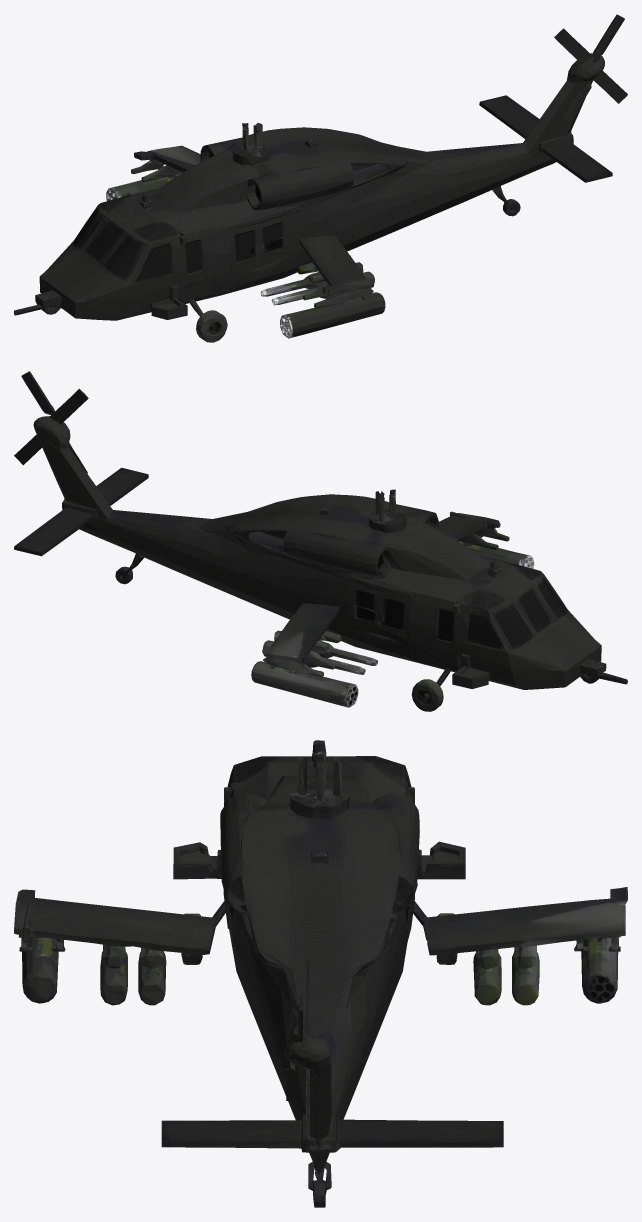
The model's file is heli_body.obj.
3 renders of one model, top to bottom at view 1: azimuth 30°, elevation 25°; view 2: azimuth 150°, elevation 25°; view 3: azimuth 270°, elevation 25°, orthographic. The views are drawn at different scales.
Size of the model in its own units: 1.81 by 0.5503 by 0.9799.
1 material, 1 textured.
